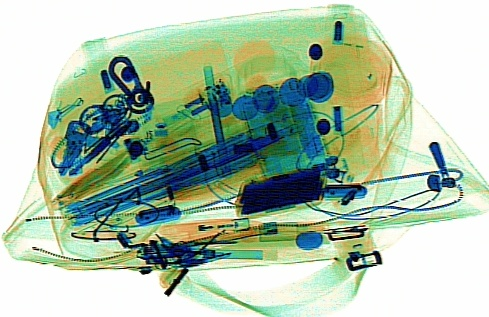lighter: (157, 216, 250, 235)
